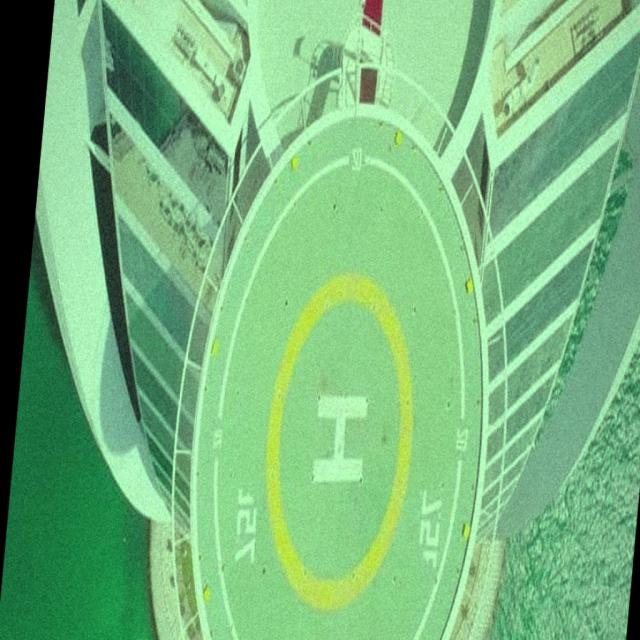helipad: (262, 269, 418, 615)
